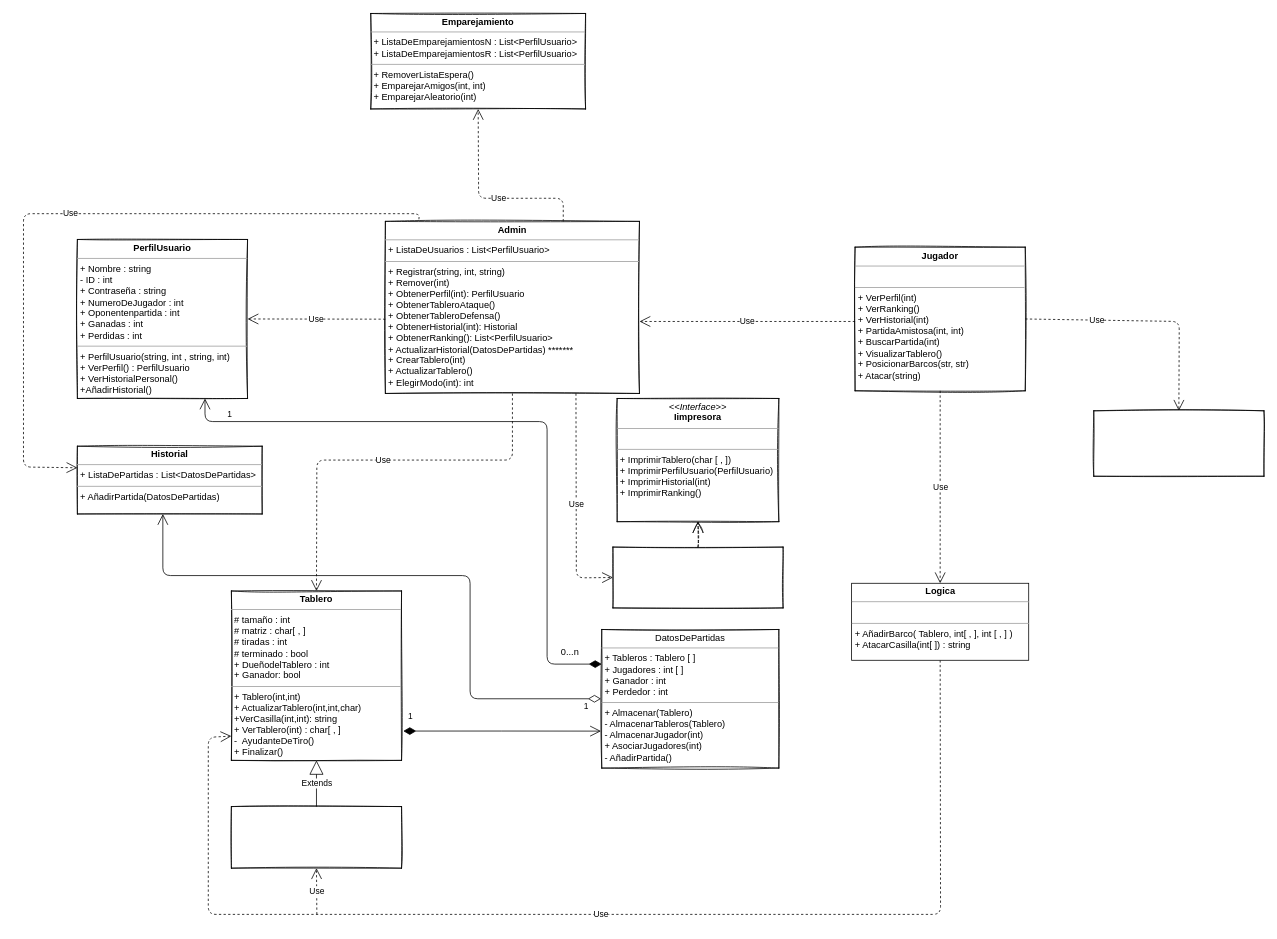
This 1277x939 diagram has some shape labels left out. The box of each missing label's shape, as (x1, y1, x2, y2) in pixels:
ImpresoraConsola **********: (612, 546, 783, 608)
TableroRapido + SegundaTirada : int + TableroRapido(int,int) **********: (231, 806, 402, 868)
TraductorDeCoordenadas + Traducir(str) : int[ ]: (1093, 410, 1264, 476)
